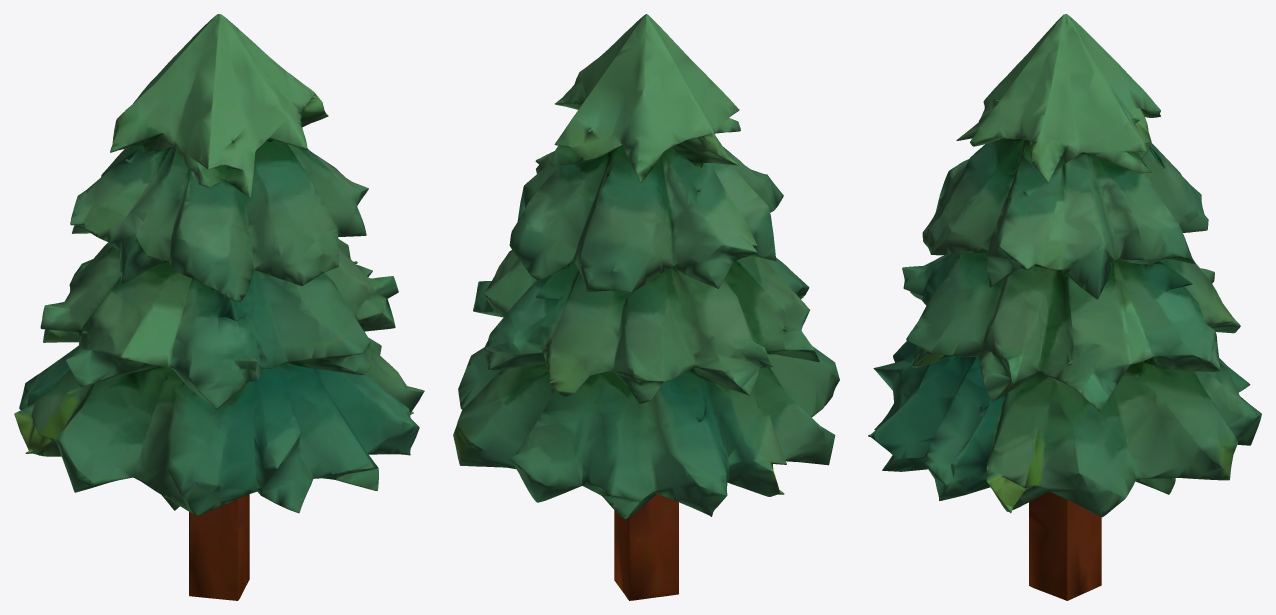
File: pine.glb
3 views of the same model, side by side, from view 1: azimuth 30°, elevation 25°; view 2: azimuth 150°, elevation 25°; view 3: azimuth 270°, elevation 25° (orthographic).
Visible parts, largest first — view 1: tripo_node_e121c5fc-92f0-4113-9321-b42dcbc245d7; view 2: tripo_node_e121c5fc-92f0-4113-9321-b42dcbc245d7; view 3: tripo_node_e121c5fc-92f0-4113-9321-b42dcbc245d7.
Part boxes in pixels (left/top/right/bottom): tripo_node_e121c5fc-92f0-4113-9321-b42dcbc245d7: left=14, top=14, right=424, bottom=600; tripo_node_e121c5fc-92f0-4113-9321-b42dcbc245d7: left=453, top=14, right=839, bottom=600; tripo_node_e121c5fc-92f0-4113-9321-b42dcbc245d7: left=868, top=14, right=1261, bottom=600.
Size of the model in its own units: 0.6165 by 0.9998 by 0.624.
Materials: 1 (1 with a texture image).
